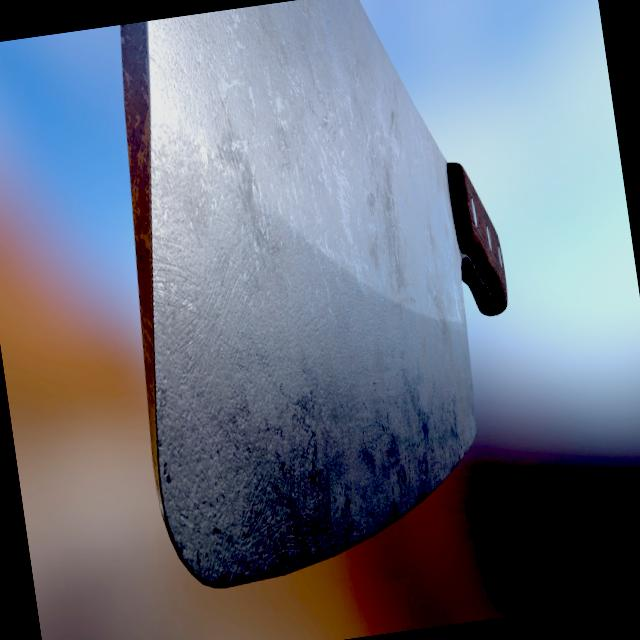cleaver: (91, 0, 545, 590)
